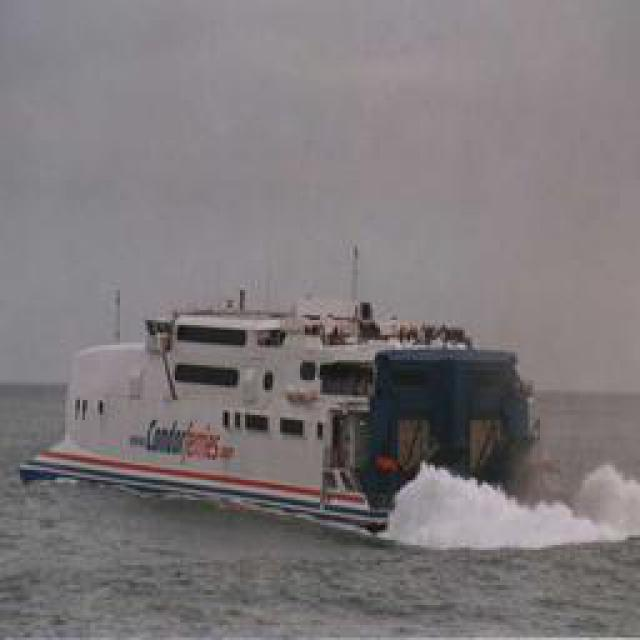Ship: (17, 305, 555, 533)
